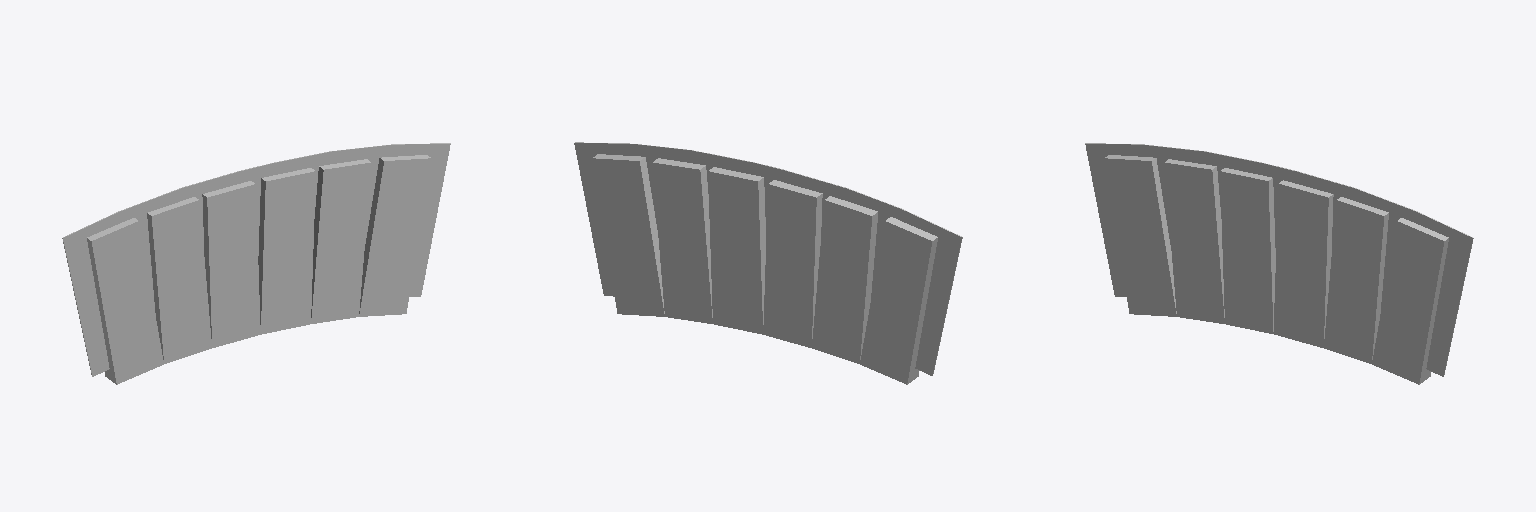
File: lime_mortar_orange_clay_brick_facade_segmental_arch_3_middle.obj
The picture shows the model from 3 angles: view 1: azimuth 30°, elevation 25°; view 2: azimuth 150°, elevation 25°; view 3: azimuth 330°, elevation 25°; orthographic projection.
Visible parts, largest first — view 1: brick.026, brick.021, brick.024, brick.023, brick.022, brick.025, cube.134, cube.137, cube.133, cube.136, cube.132, cube.135 (+1 smaller); view 2: brick.026, brick.021, brick.024, brick.022, brick.023, brick.025, cube.134, cube.137, cube.133, cube.136, cube.132, cube.135 (+1 smaller); view 3: brick.026, brick.024, brick.023, brick.021, brick.025, brick.022, cube.137, cube.134, cube.136, cube.133, cube.135, cube.132 (+1 smaller).
Boxes of the visible parts, <box> form: brick.026: <box>258,168,315,334</box>; brick.021: <box>87,218,163,384</box>; brick.024: <box>359,155,431,316</box>; brick.023: <box>202,181,260,347</box>; brick.022: <box>147,197,211,363</box>; brick.025: <box>311,159,371,323</box>; cube.134: <box>62,211,122,376</box>; cube.137: <box>391,143,450,296</box>; cube.133: <box>121,188,181,314</box>; cube.136: <box>332,144,391,250</box>; cube.132: <box>180,171,239,245</box>; cube.135: <box>273,151,332,206</box>; brick.026: <box>708,167,765,334</box>; brick.021: <box>860,217,937,384</box>; brick.024: <box>592,154,664,316</box>; brick.022: <box>812,196,877,363</box>; brick.023: <box>763,180,822,347</box>; brick.025: <box>652,158,712,323</box>; cube.134: <box>902,210,962,375</box>; cube.137: <box>574,142,634,296</box>; cube.133: <box>844,187,903,297</box>; cube.136: <box>633,144,691,229</box>; cube.132: <box>784,170,844,233</box>; cube.135: <box>692,150,751,193</box>; brick.026: <box>1274,180,1333,347</box>; brick.024: <box>1372,218,1448,384</box>; brick.023: <box>1220,168,1275,333</box>; brick.021: <box>1104,155,1176,316</box>; brick.025: <box>1324,197,1388,363</box>; brick.022: <box>1164,159,1224,323</box>; cube.137: <box>1413,211,1473,376</box>; cube.134: <box>1085,143,1144,296</box>; cube.136: <box>1354,188,1414,314</box>; cube.133: <box>1144,144,1203,250</box>; cube.135: <box>1296,171,1355,245</box>; cube.132: <box>1203,151,1262,206</box>.
Bounding box in the file's own units: 1.26 × 0.554 × 0.0633.